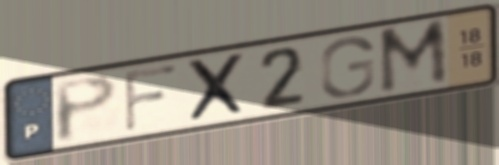2: (256, 45, 308, 112)
F: (121, 61, 181, 136)
G: (317, 34, 377, 99)
M: (375, 15, 452, 98)
P: (50, 72, 121, 146)
X: (182, 50, 252, 126)
